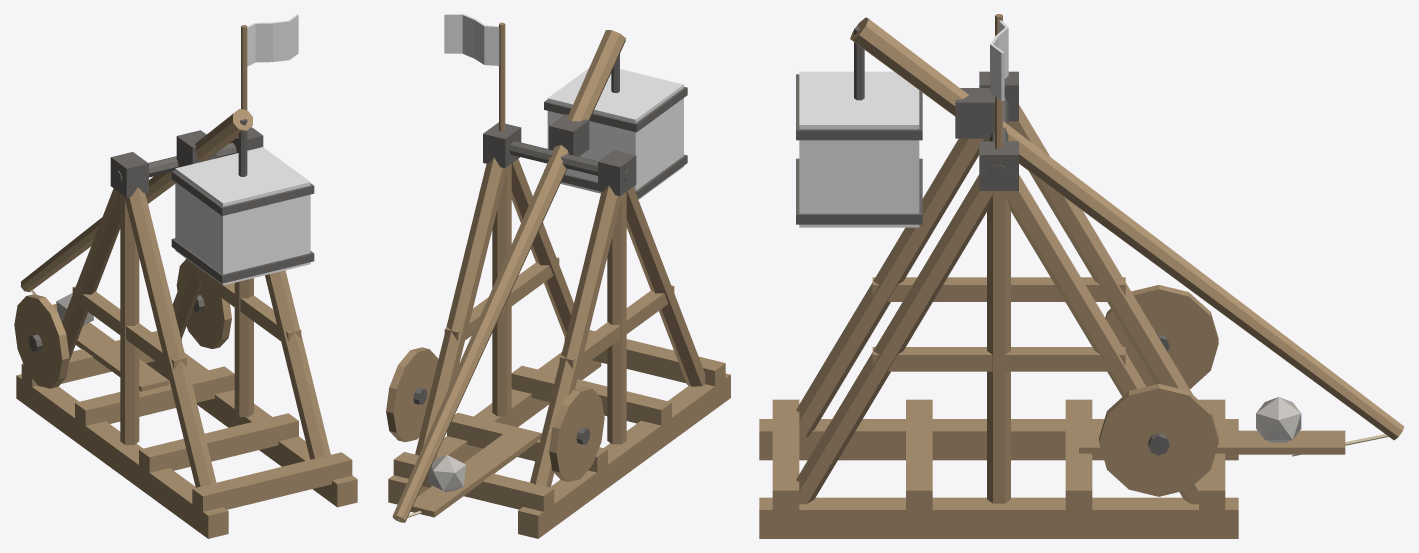
Rendered from civ_unit_trebuchet.glb.
3 renders of one model, left to right at view 1: azimuth 30°, elevation 25°; view 2: azimuth 150°, elevation 25°; view 3: azimuth 270°, elevation 25°, orthographic. The views are drawn at different scales.
Visible parts, largest first — view 1: civ_unit_trebuchet; view 2: civ_unit_trebuchet; view 3: civ_unit_trebuchet.
Part boxes in pixels (<box>): civ_unit_trebuchet: <box>14,14,357,538</box>; civ_unit_trebuchet: <box>386,14,730,538</box>; civ_unit_trebuchet: <box>759,14,1404,538</box>.
Size of the model in its own units: 2.2 by 4.25 by 4.84.
